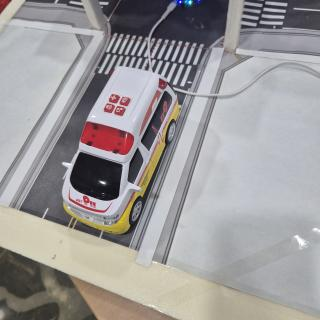Ambulance: (62, 66, 180, 234)
